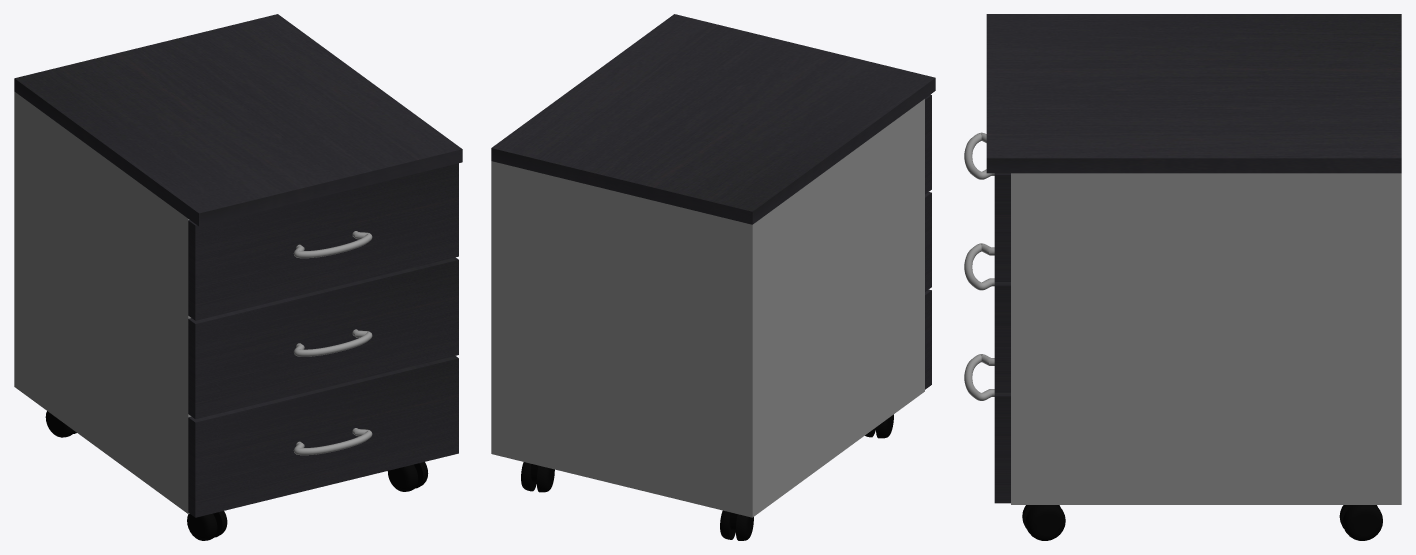
File: cassettieraW.obj
3 renders of one model, left to right at view 1: azimuth 30°, elevation 25°; view 2: azimuth 150°, elevation 25°; view 3: azimuth 270°, elevation 25°, orthographic. The views are drawn at different scales.
Visible parts, largest first — view 1: Box62_1, Box66_5, Box64_3, Box63_2, Box65_4, Line57_19, Line58_20, Line56_18, Line47_9, Line44_6; view 2: Box66_5, Box62_1, Box64_3, Box63_2, Box65_4; view 3: Box66_5, Box62_1, Box63_2, Box64_3, Box65_4, Line46_8, Line51_13, Line57_19, Line56_18, Line58_20.
Part boxes in pixels (<box>): Box62_1: <box>14,14,462,226</box>; Box66_5: <box>14,91,191,513</box>; Box64_3: <box>188,257,458,419</box>; Box63_2: <box>188,356,458,517</box>; Box65_4: <box>188,163,458,320</box>; Line57_19: <box>294,329,372,356</box>; Line58_20: <box>293,231,372,258</box>; Line56_18: <box>293,428,372,455</box>; Line47_9: <box>187,513,217,540</box>; Line44_6: <box>387,464,418,491</box>; Box66_5: <box>491,99,924,517</box>; Box62_1: <box>491,14,935,224</box>; Box64_3: <box>925,192,931,291</box>; Box63_2: <box>925,289,931,389</box>; Box65_4: <box>925,94,931,194</box>; Box66_5: <box>1011,173,1401,504</box>; Box62_1: <box>986,14,1401,173</box>; Box63_2: <box>994,392,1010,503</box>; Box64_3: <box>994,282,1010,392</box>; Box65_4: <box>994,173,1010,281</box>; Line46_8: <box>1025,505,1065,540</box>; Line51_13: <box>1343,505,1382,540</box>; Line57_19: <box>964,243,994,290</box>; Line56_18: <box>964,354,994,400</box>; Line58_20: <box>964,132,994,179</box>.
Size of the model in its own units: 42 by 53.5 by 53.75.
